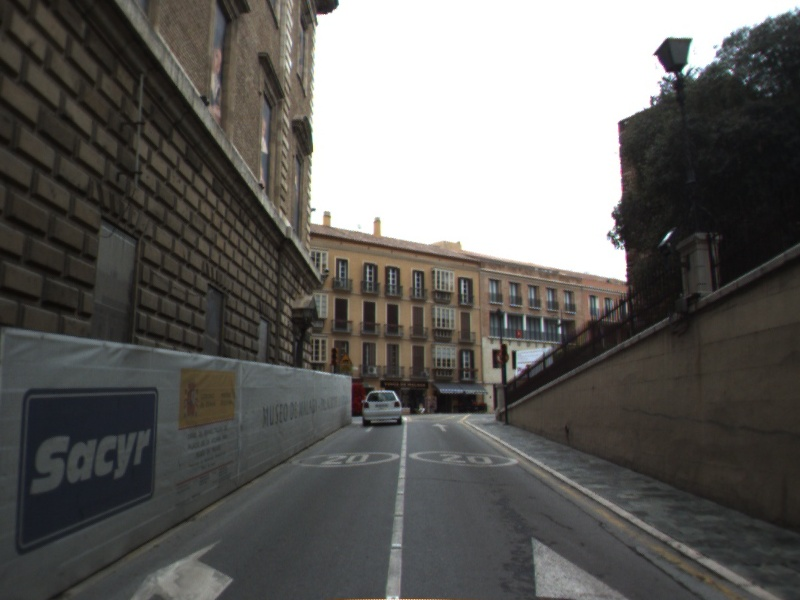LEFT: (127, 537, 235, 600)
STRAIGHT: (430, 421, 450, 433)
